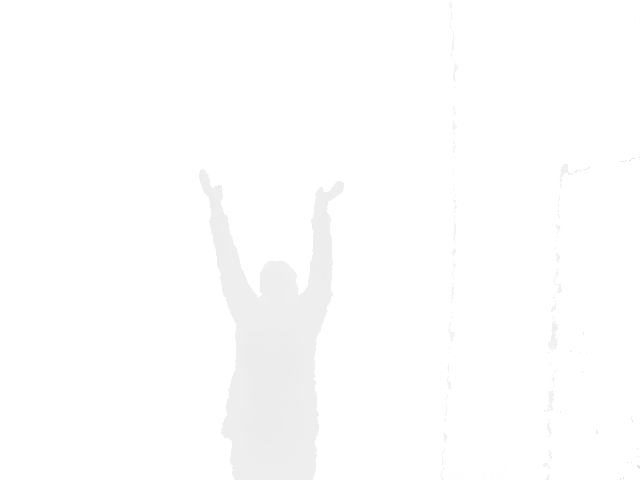hand: (198, 167, 224, 206), (313, 179, 345, 207)
head: (258, 258, 301, 307)
person: (198, 167, 346, 479)
